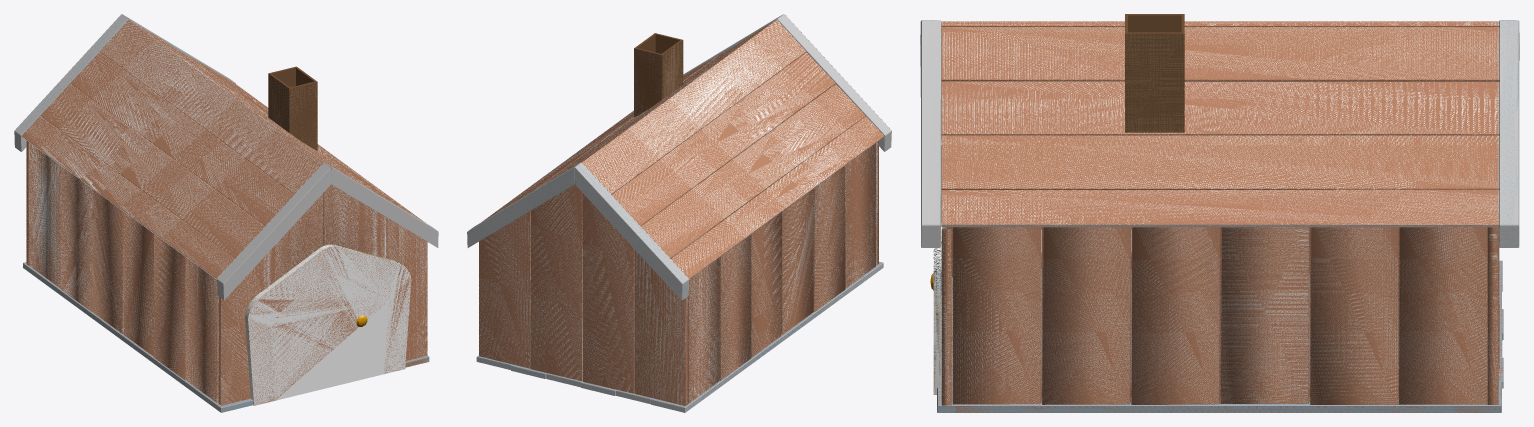
The model's file is Hatters_House.fbx.
The picture shows the model from 3 angles, left to right: view 1: azimuth 30°, elevation 25°; view 2: azimuth 150°, elevation 25°; view 3: azimuth 270°, elevation 25°; orthographic projection. The views are drawn at different scales.
Visible parts, largest first — view 1: Group4, Group2, Group1, Group14, Group15, Group3, Group6; view 2: Group2, Group4, Group3, Group15, Group6, Group14; view 3: Group4, Group2, Group15, Group6, Group3, Group14, Group1, Model.
Boxes of the visible parts, left/top/right/bottom form: Group4: left=21, top=20, right=423, bottom=279; Group2: left=26, top=54, right=427, bottom=405; Group1: left=245, top=244, right=411, bottom=405; Group14: left=217, top=162, right=438, bottom=300; Group15: left=268, top=66, right=317, bottom=150; Group3: left=14, top=14, right=235, bottom=151; Group6: left=23, top=236, right=429, bottom=412; Group2: left=479, top=53, right=878, bottom=405; Group4: left=482, top=20, right=884, bottom=279; Group3: left=467, top=162, right=689, bottom=300; Group15: left=634, top=33, right=683, bottom=117; Group6: left=476, top=233, right=883, bottom=412; Group14: left=683, top=14, right=891, bottom=151; Group4: left=941, top=21, right=1498, bottom=227; Group2: left=941, top=28, right=1499, bottom=405; Group15: left=1125, top=14, right=1184, bottom=132; Group6: left=937, top=260, right=1503, bottom=412; Group3: left=1499, top=20, right=1519, bottom=247; Group14: left=920, top=20, right=940, bottom=247; Group1: left=933, top=140, right=952, bottom=394; Model: left=940, top=20, right=1499, bottom=247.
Size of the model in its own units: 770 by 832 by 1301.
